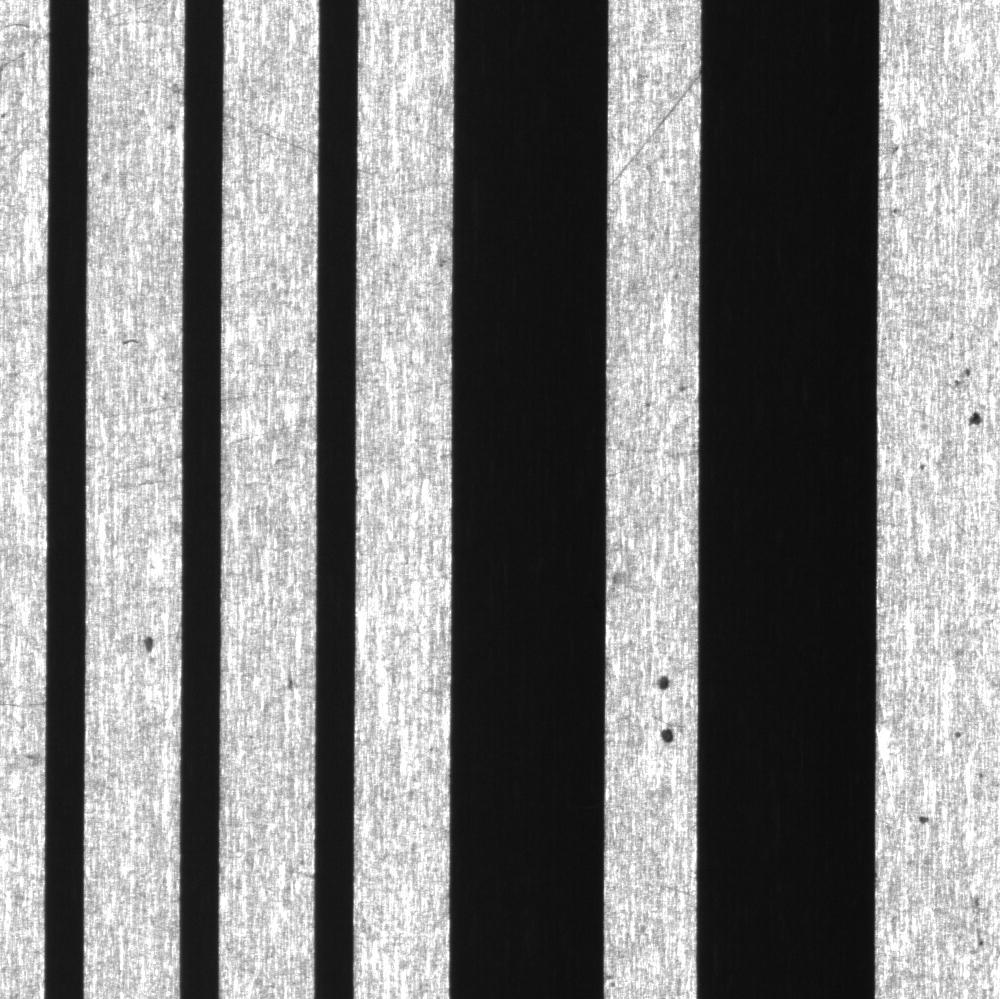Etching: (944, 360, 987, 436), (968, 877, 994, 970), (137, 619, 168, 667), (651, 712, 688, 751), (276, 654, 303, 703), (911, 796, 939, 836)
Pinhole: (940, 712, 986, 746), (646, 662, 686, 700)
Scar: (613, 66, 696, 188), (224, 103, 318, 165), (372, 107, 449, 156), (605, 443, 690, 485), (89, 391, 181, 427), (224, 417, 310, 448), (98, 453, 172, 483)
